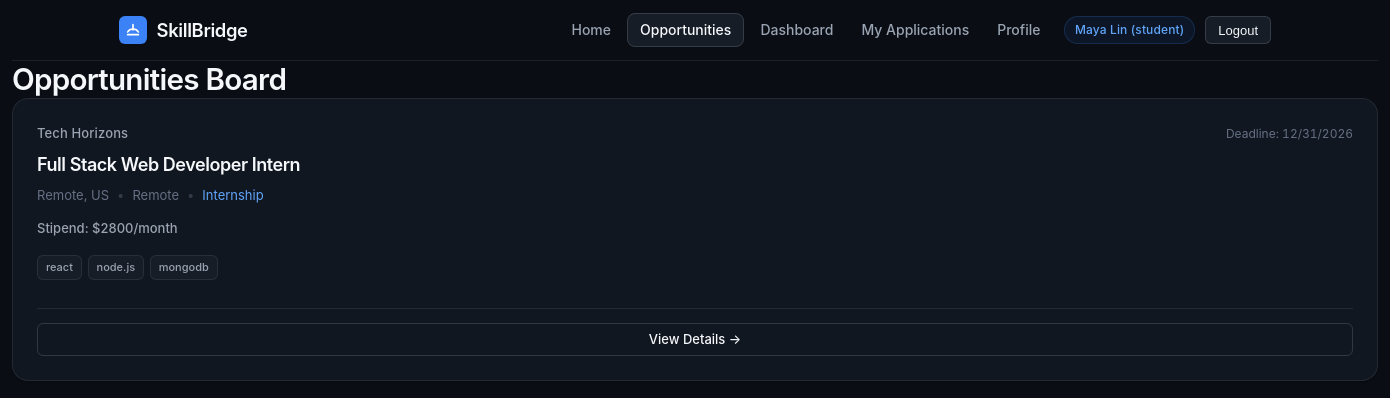
it: Frontend System / UAT Tests — End-to-End User Workflows › System Journey 1: Student logs in, discovers opportunity, applies, and checks application status
The image size is (1390, 398).
Expected: the heading "Opportunities Board" is shown, [12, 61, 286, 97]
Expected: the heading "Full Stack Web Developer Intern" is shown, [37, 154, 300, 175]
Click the link "View Details →" at (695, 339), box [37, 322, 1353, 356]
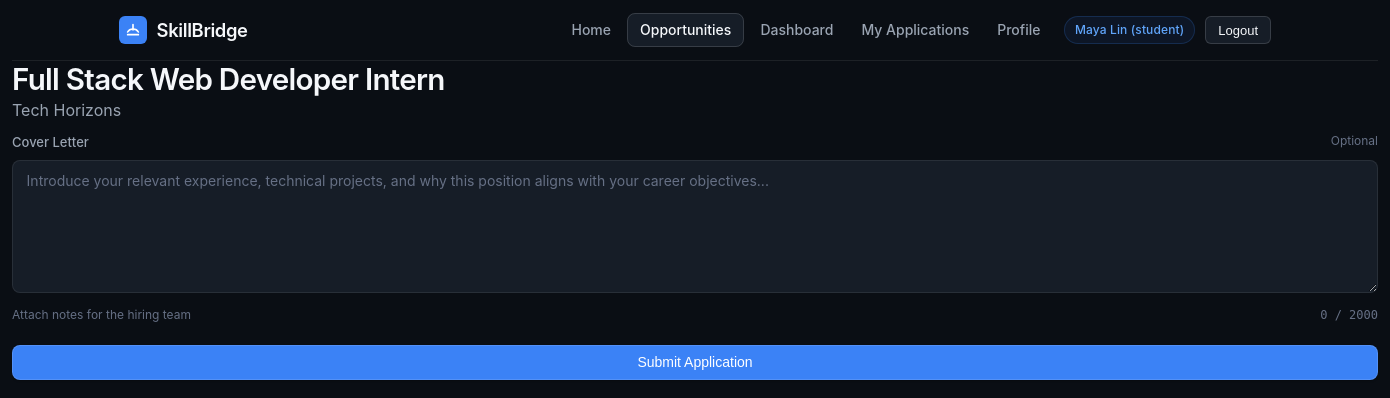
Result: the text box labelled "Cover Letter Optional" is shown
Result: the button "Submit Application" is shown at [12, 345, 1378, 380]
// Student writes statement of interest and submits
Replace the text in the text box labelled "Cover Letter Optional" with "Passionate about scalable React web applications." at (695, 226), box [12, 160, 1378, 293]
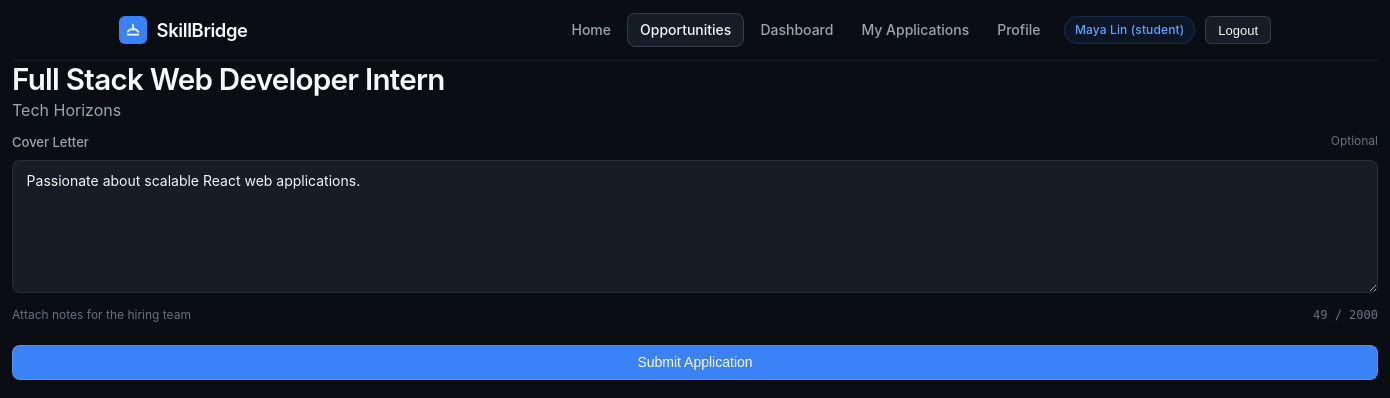
Click the button "Submit Application" at (695, 362), box [12, 345, 1378, 380]
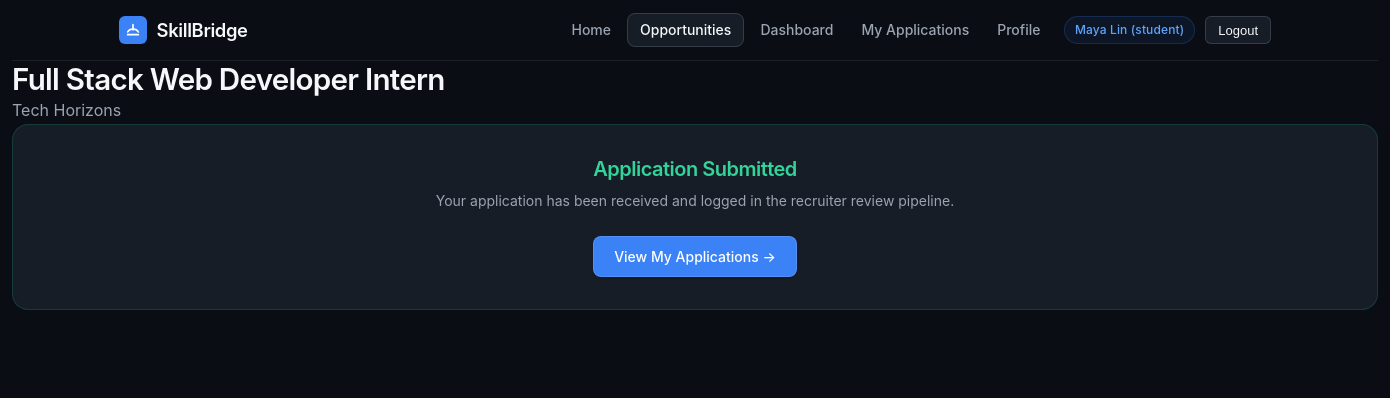
Result: the heading "Application Submitted" is shown at [593, 157, 797, 181]
// Student navigates to My Applications and verifies status badge
Click the link "View My Applications →" at (695, 257), box [593, 236, 797, 277]
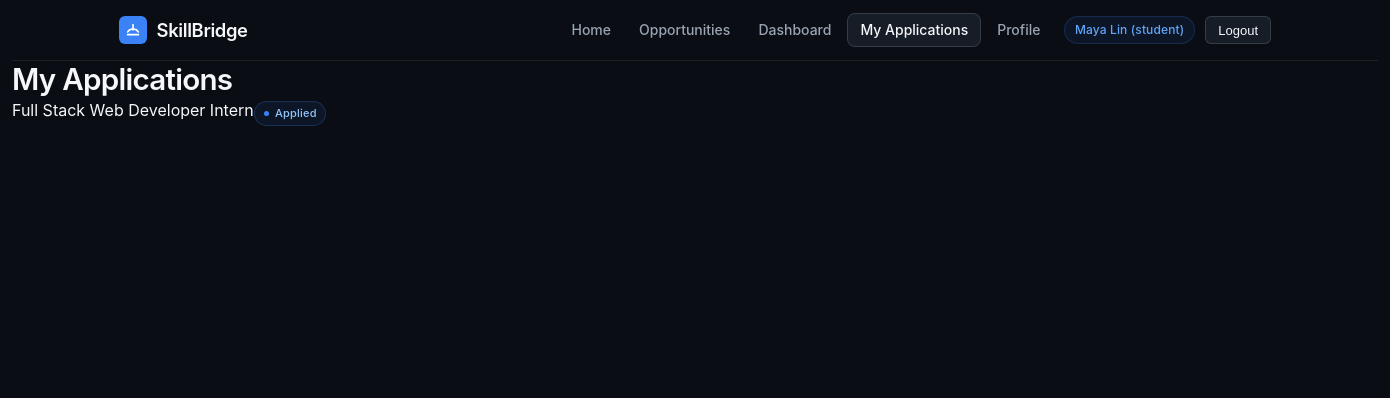
Result: the heading "My Applications" is shown at [12, 61, 232, 97]
Result: the text "Applied" is shown at [254, 101, 326, 126]
